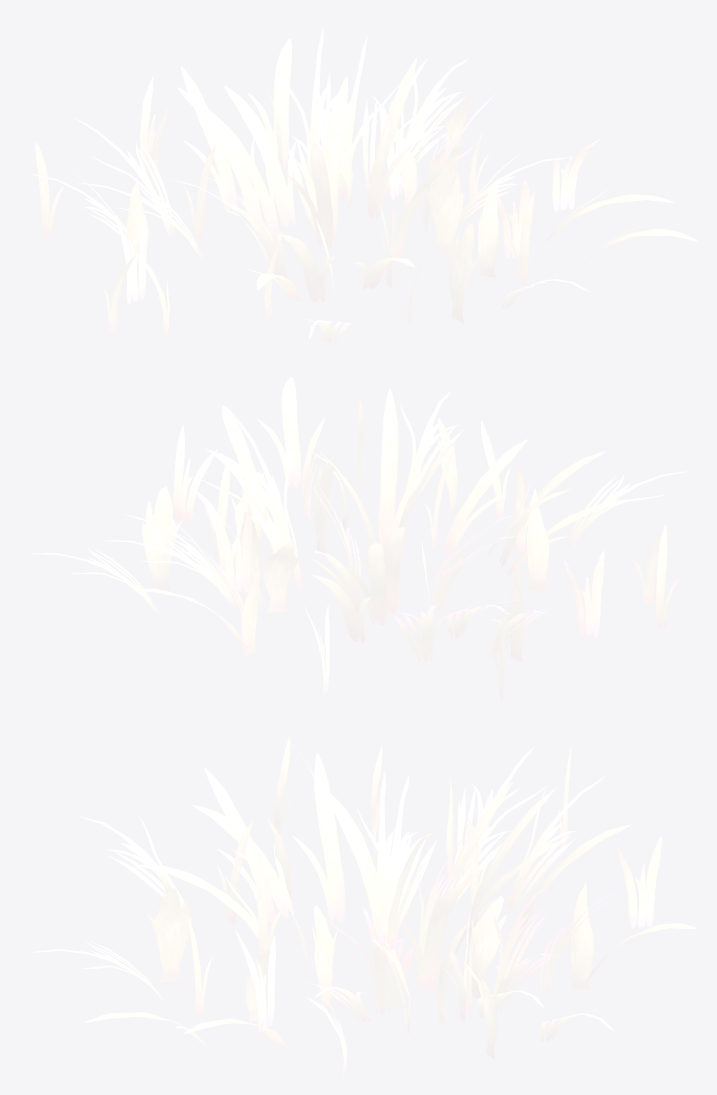
3 renders of one model, top to bottom at view 1: azimuth 30°, elevation 25°; view 2: azimuth 150°, elevation 25°; view 3: azimuth 270°, elevation 25°, orthographic. The views are drawn at different scales.
Visible parts, largest first — view 1: SM_WT_Sedge_01_LOD0; view 2: SM_WT_Sedge_01_LOD0; view 3: SM_WT_Sedge_01_LOD0.
Part boxes in pixels (x1,y1,x2,y2): SM_WT_Sedge_01_LOD0: (29,28,697,342); SM_WT_Sedge_01_LOD0: (29,377,689,700); SM_WT_Sedge_01_LOD0: (30,736,697,1077).
Size of the model in its own units: 0.8142 by 0.2419 by 0.8657.
